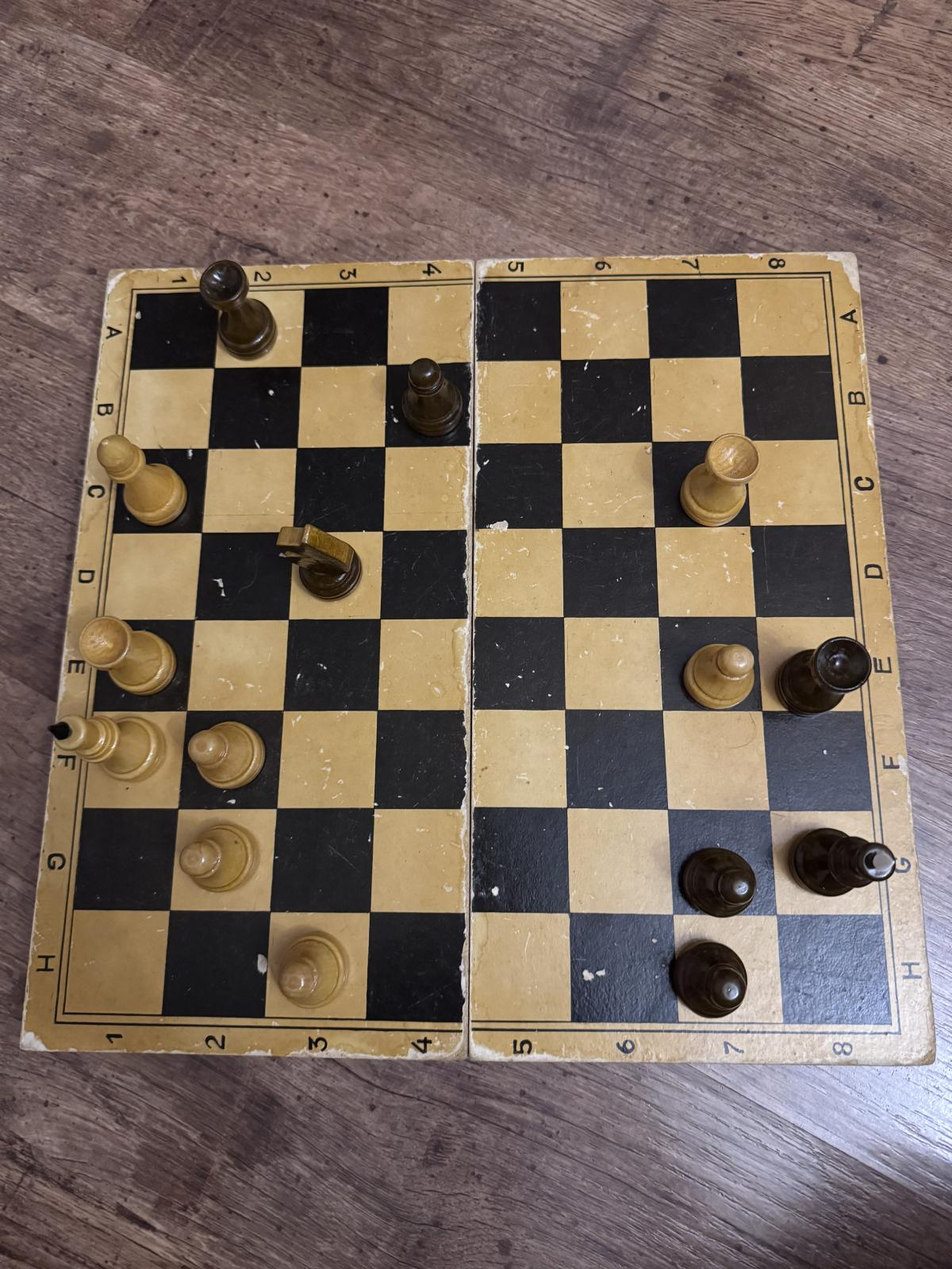Chess-Board: (63, 277, 891, 1024)
